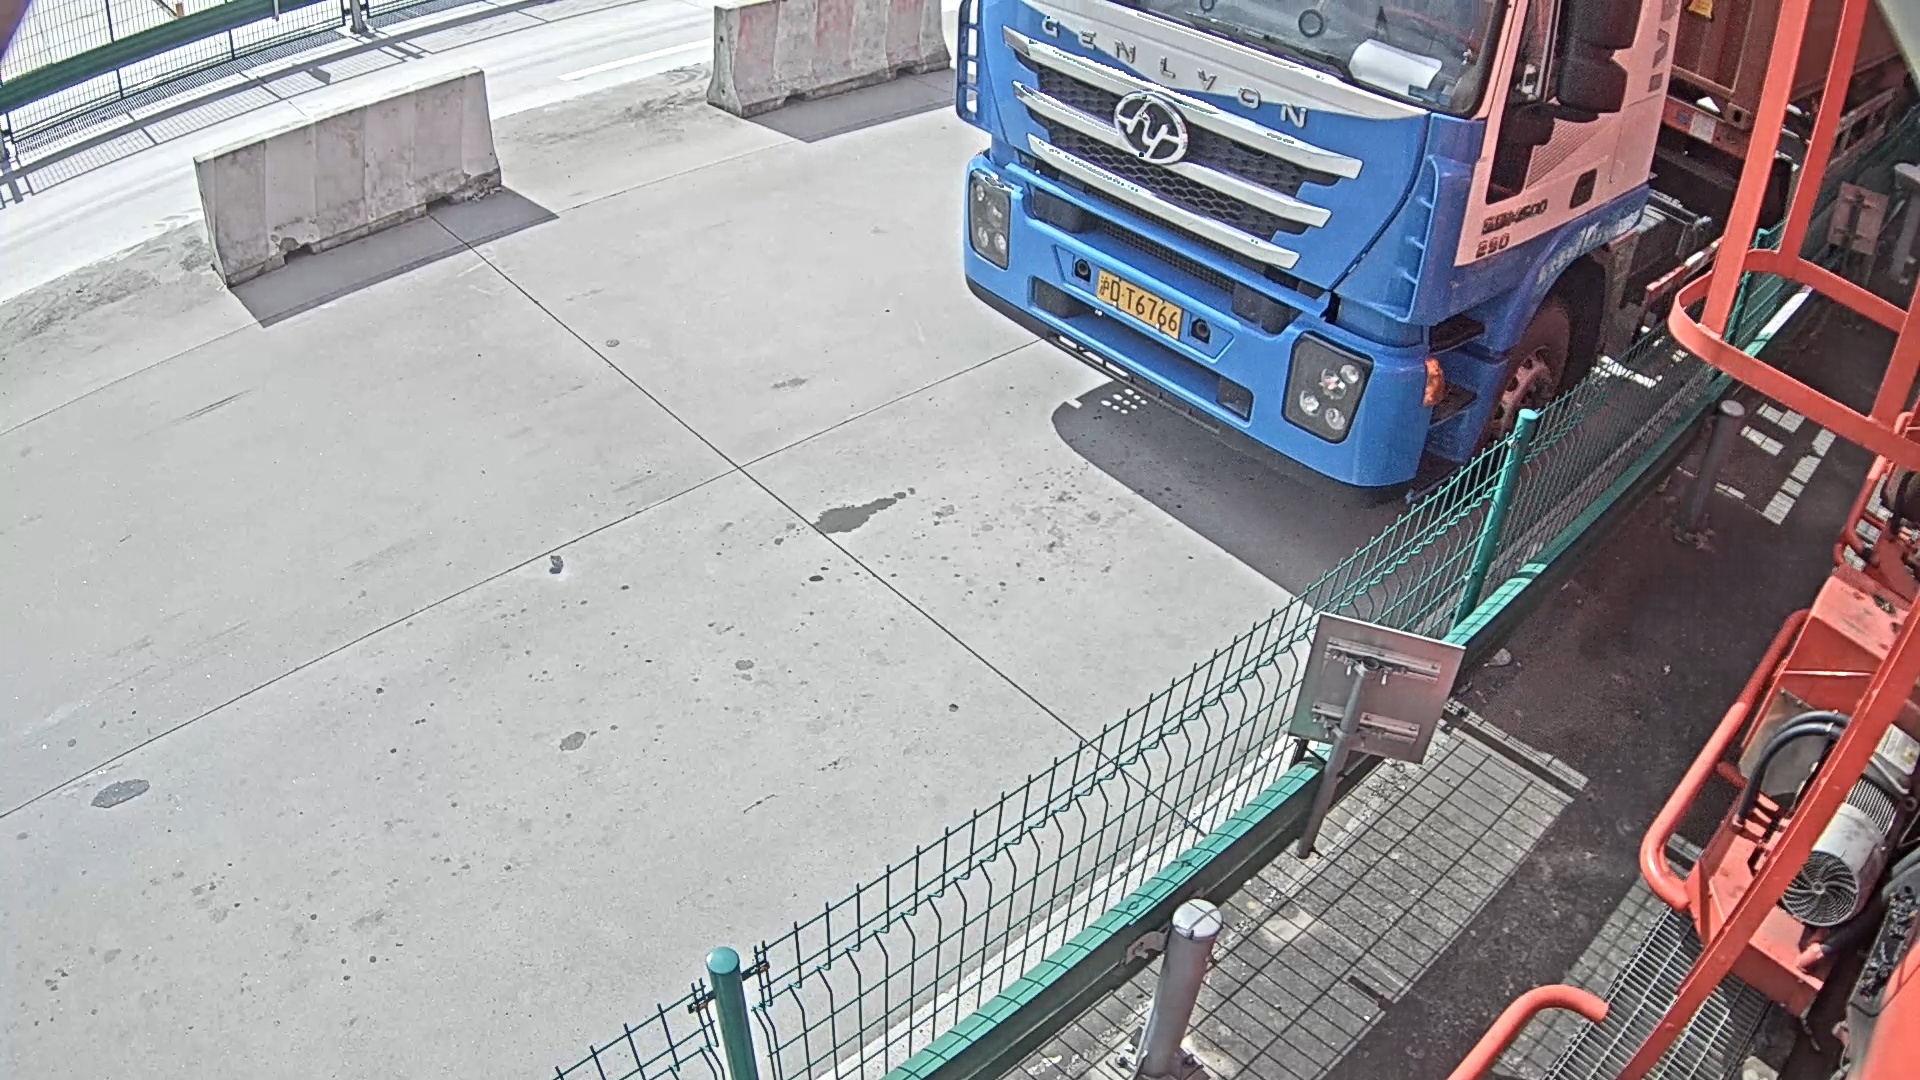head: (952, 1, 1679, 485)
plate: (1090, 265, 1182, 340)
